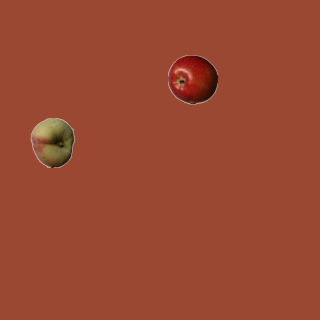Apple Braeburn: (167, 54, 217, 104)
Peach Flat: (27, 117, 77, 167)
